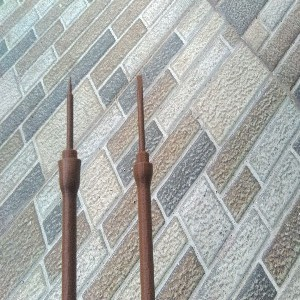obeng: (133, 73, 156, 300)
solder: (57, 74, 82, 300)
